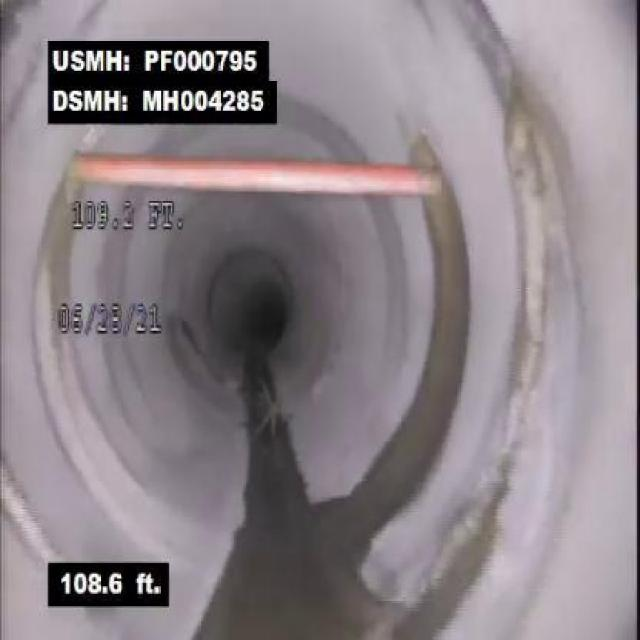Joint offset: (483, 55, 629, 571)
Utility intrusion: (57, 136, 485, 202)
